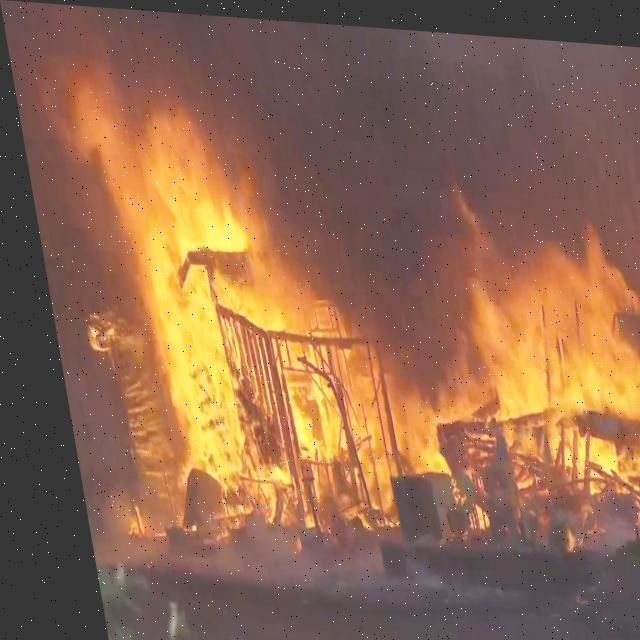Fire: (105, 133, 639, 561)
